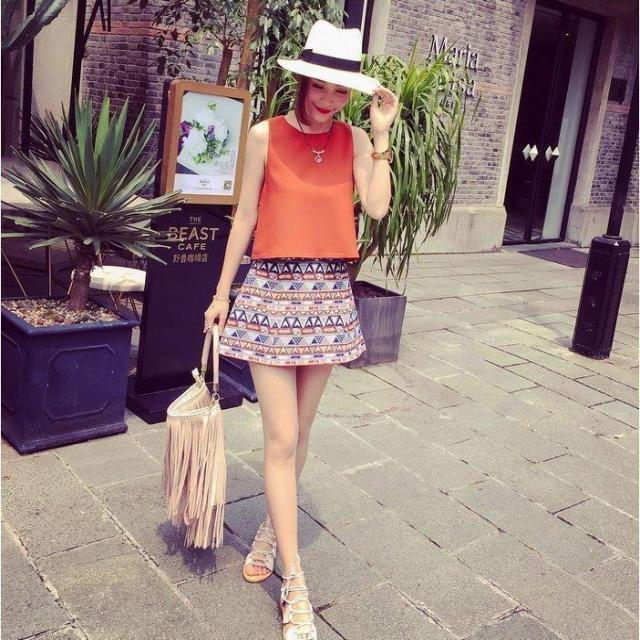skirt: (219, 257, 369, 367)
vest: (253, 115, 358, 258)
